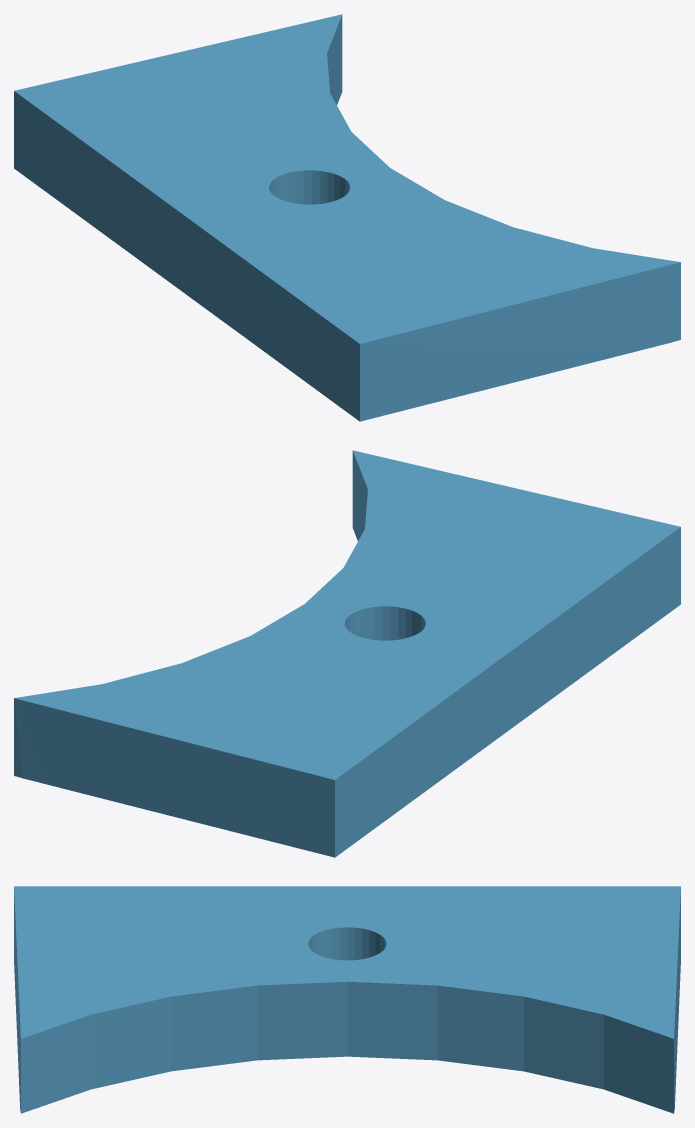
The model's file is VIS_WristSlider2.dae.
3 views of the same model, one above another, from view 1: azimuth 30°, elevation 25°; view 2: azimuth 150°, elevation 25°; view 3: azimuth 270°, elevation 25° (orthographic). The views are drawn at different scales.
Parts seen in each view (by area): view 1: VIS_WristSlider2; view 2: VIS_WristSlider2; view 3: VIS_WristSlider2.
Part boxes in pixels (x1=…): VIS_WristSlider2: x1=14, y1=14, x2=680, y2=421; VIS_WristSlider2: x1=14, y1=450, x2=680, y2=857; VIS_WristSlider2: x1=14, y1=886, x2=680, y2=1113.
Bounding box in the file's own units: 0.035 × 0.0645 × 0.00799.
